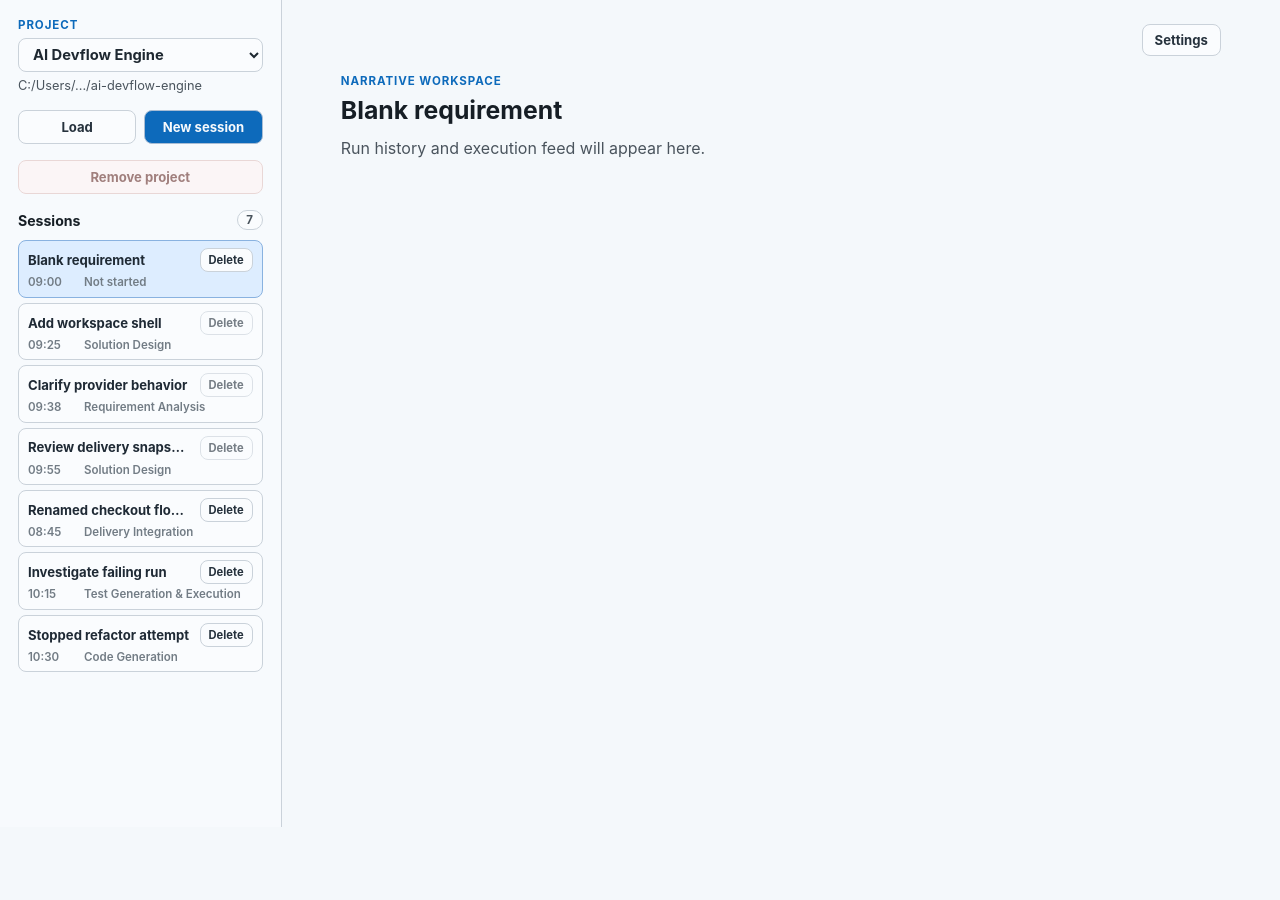
it: session delete selection › deletes the current session and leaves the workspace unselected
Click the button with aria-label "Delete Blank requirement".
click(226, 260)  # box [200,248,253,272]
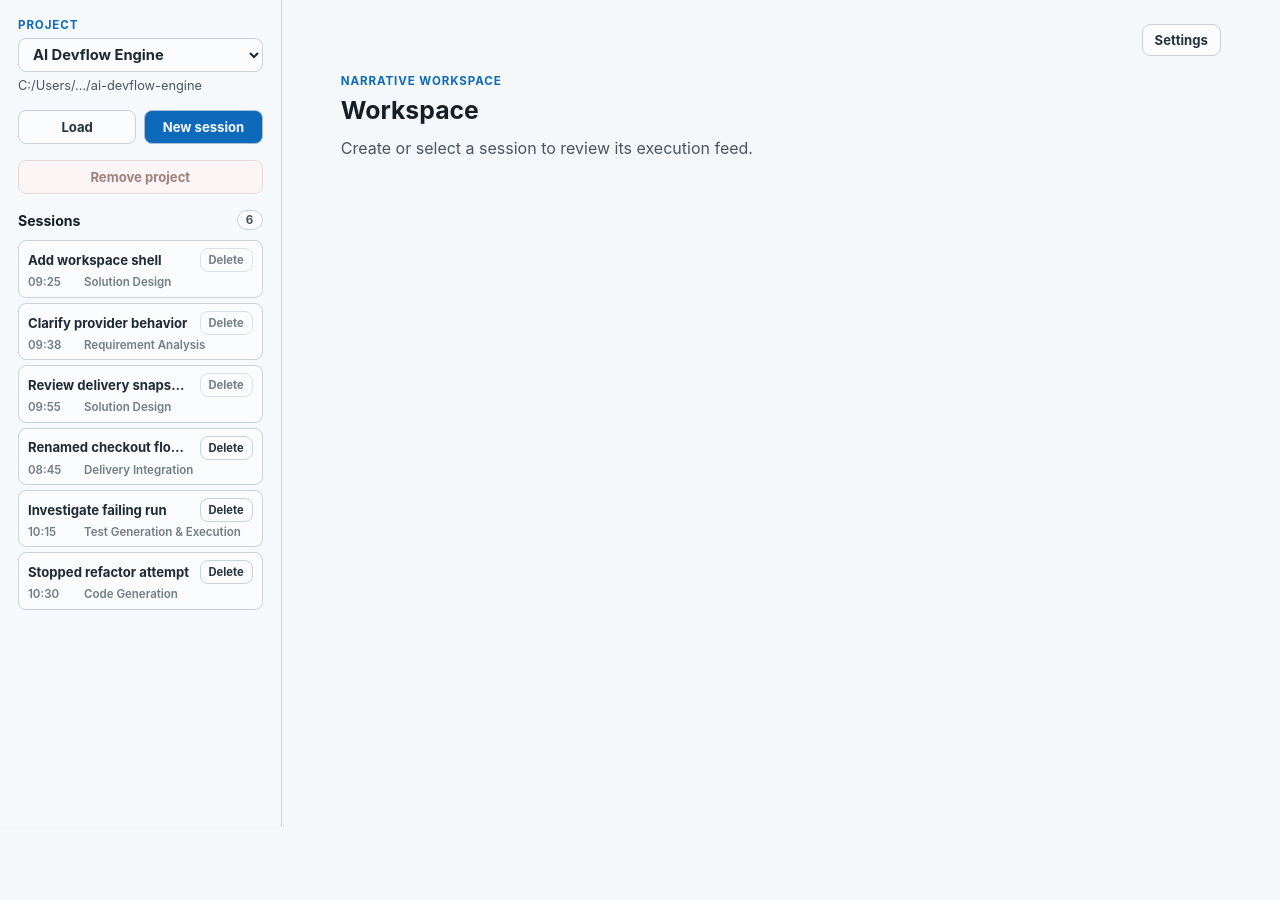
Check: the heading "Workspace" is shown, box [341,95,479,125]
Check: the text "Create or select a session to review its execution feed." is shown, box [341,138,753,158]
